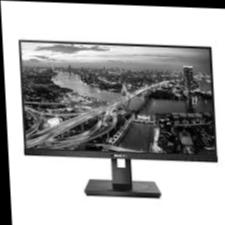monitor: (10, 34, 224, 204)
